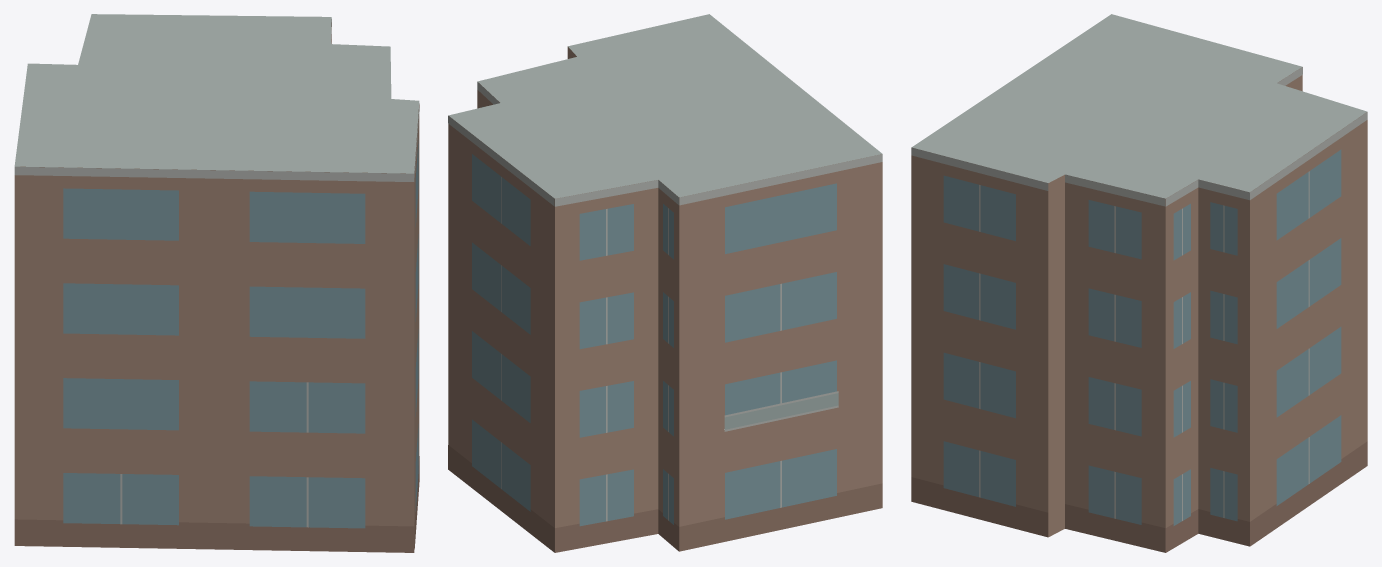
Rendered from survey-upis-32748713.glb.
3 views of the same model, side by side, from view 1: azimuth 30°, elevation 25°; view 2: azimuth 150°, elevation 25°; view 3: azimuth 270°, elevation 25° (orthographic). The views are drawn at different scales.
Parts seen in each view (by area): view 1: survey-upis-32748713.tmp; view 2: survey-upis-32748713.tmp; view 3: survey-upis-32748713.tmp.
Part boxes in pixels (bbox=[...]): survey-upis-32748713.tmp: bbox=[14, 14, 419, 552]; survey-upis-32748713.tmp: bbox=[448, 14, 882, 552]; survey-upis-32748713.tmp: bbox=[911, 14, 1367, 552].
Bounding box in the file's own units: 12.08 × 10.8 × 12.61.
